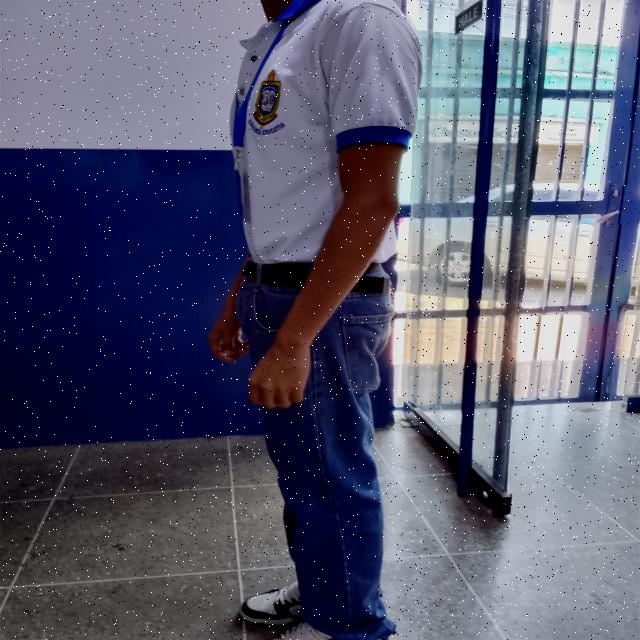uniforme_superior: (230, 0, 426, 264)
